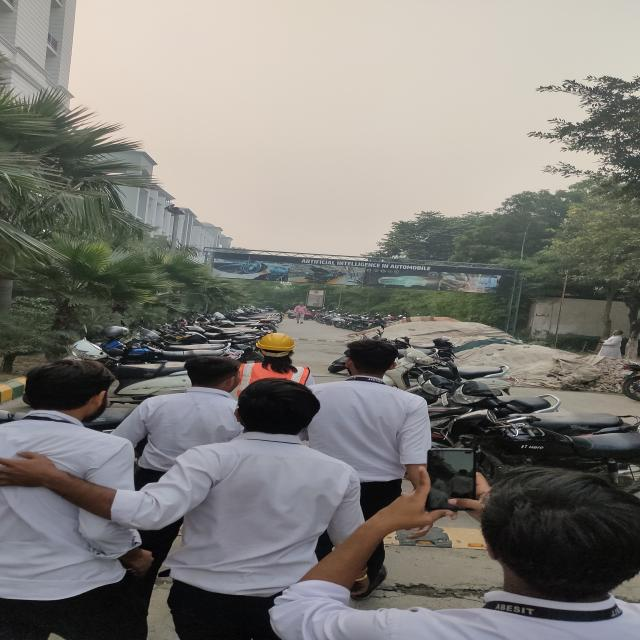safe: (232, 332, 316, 408)
unsafe: (65, 377, 368, 640), (0, 358, 152, 640), (307, 340, 433, 602), (115, 355, 245, 594), (295, 302, 307, 324)
